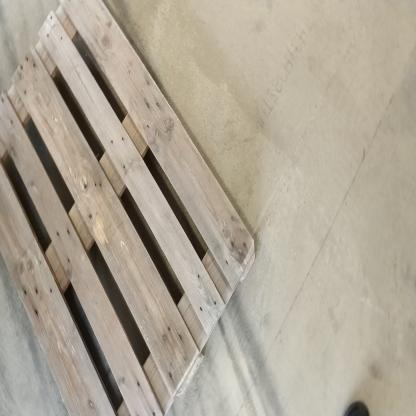BoxFace: (0, 1, 262, 414)
